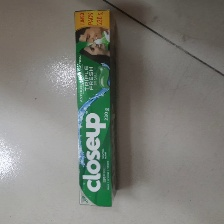CloseUp Xanh: (73, 8, 118, 209)
